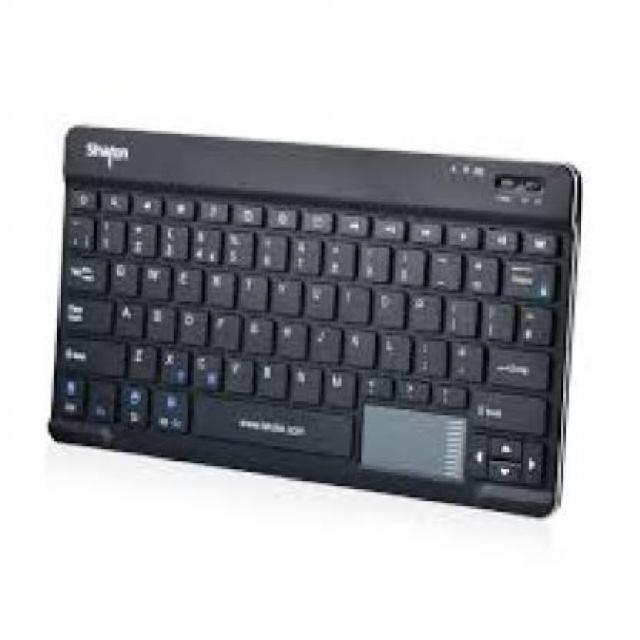keyboard: (52, 178, 576, 514)
